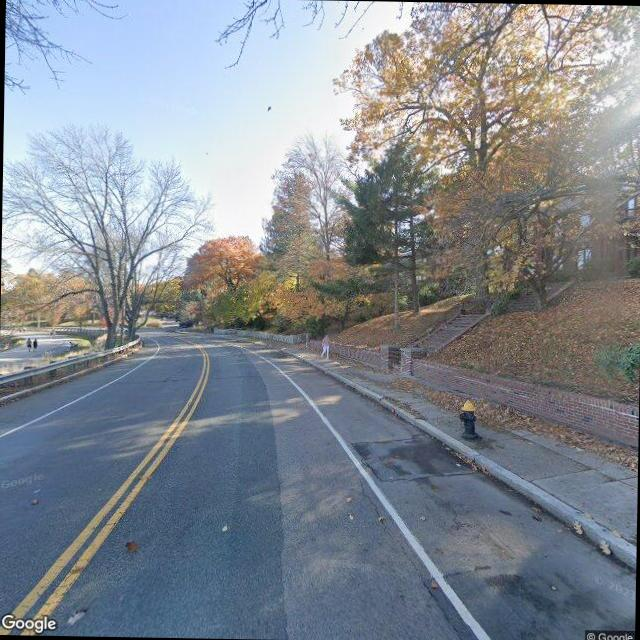pothole: (352, 472, 428, 582)
